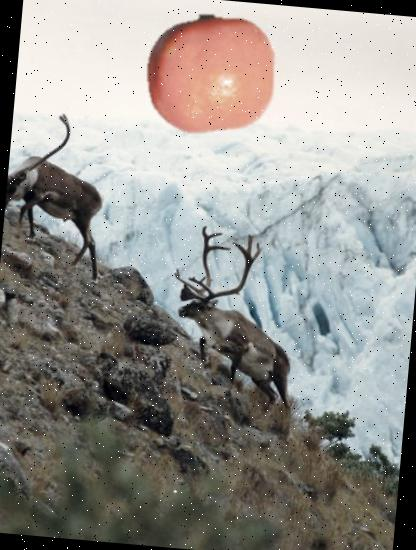Clementine: (140, 2, 284, 146)
